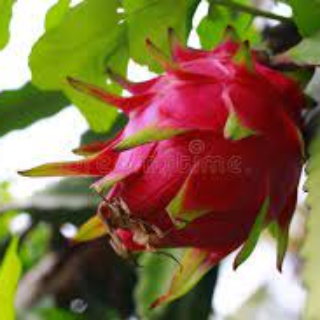thanh_long: (85, 51, 297, 283)
